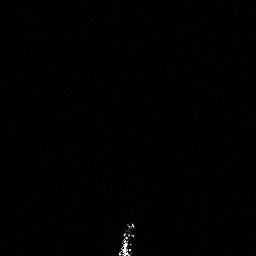ship: (113, 219, 138, 256)
